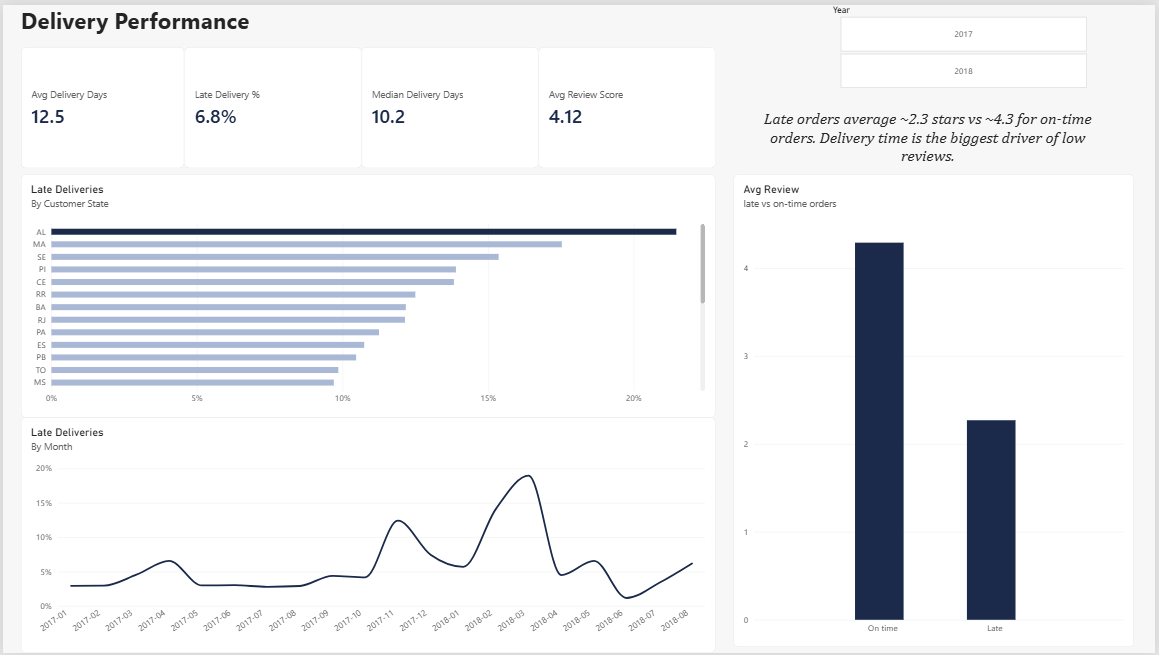

Layout of this report page (visuals, bound fields, positions):
{"tool":"powerbi","page":{"name":"Delivery Performance","canvas":[1920,1080],"ordinal":2},"visuals":[{"type":"textbox","box":[29.4,0,591.2,88.2],"z":0},{"type":"cardVisual","fields":{"Data":["Date.Avg Delivery Days"]},"box":[30,70,272.5,202.5],"z":1000},{"type":"cardVisual","fields":{"Data":["Date.Median Delivery Days"]},"box":[597.5,70,295,202.5],"z":2000},{"type":"cardVisual","fields":{"Data":["Date.Late Delivery %"]},"box":[302.5,70,295,202.5],"z":3000},{"type":"cardVisual","fields":{"Data":["Date.Avg Review Score"]},"box":[892.5,70,295,202.5],"z":4000},{"type":"slicer","fields":{"Values":["Date.Year"]},"box":[1375,0,450,140],"z":5000},{"type":"lineChart","title":"Late Deliveries","fields":{"Category":["Date.Year-Month"],"Y":["Date.Late Delivery %"]},"box":[30,687.5,1157.5,392.5],"z":6000},{"type":"clusteredBarChart","title":"Late Deliveries","fields":{"Category":["vw_dim_customer.customer_state"],"Y":["Date.Late Delivery %"]},"box":[30,282.5,1157.5,405],"z":7000},{"type":"clusteredColumnChart","title":"Avg Review ","fields":{"Category":["vw_fact_orders.Delivery Status"],"Y":["Date.Avg Review Score"]},"box":[1217.5,282.5,667.5,787.5],"z":8000},{"type":"textbox","box":[1257.5,172.5,567.5,120],"z":9000}]}

Visuals, with their boxes in screenshot pixels (x1, y1, x2, y2), scaled from the page's 1920x1080 canvas onto the 1159x655 screenshot:
textbox: Rect(18, 0, 375, 53)
cardVisual - Date.Avg Delivery Days: Rect(18, 42, 183, 165)
cardVisual - Date.Median Delivery Days: Rect(361, 42, 539, 165)
cardVisual - Date.Late Delivery %: Rect(183, 42, 361, 165)
cardVisual - Date.Avg Review Score: Rect(539, 42, 717, 165)
slicer - Date.Year: Rect(830, 0, 1102, 85)
"Late Deliveries" lineChart: Rect(18, 417, 717, 654)
"Late Deliveries" clusteredBarChart: Rect(18, 171, 717, 417)
"Avg Review " clusteredColumnChart: Rect(735, 171, 1138, 649)
textbox: Rect(759, 105, 1102, 177)
